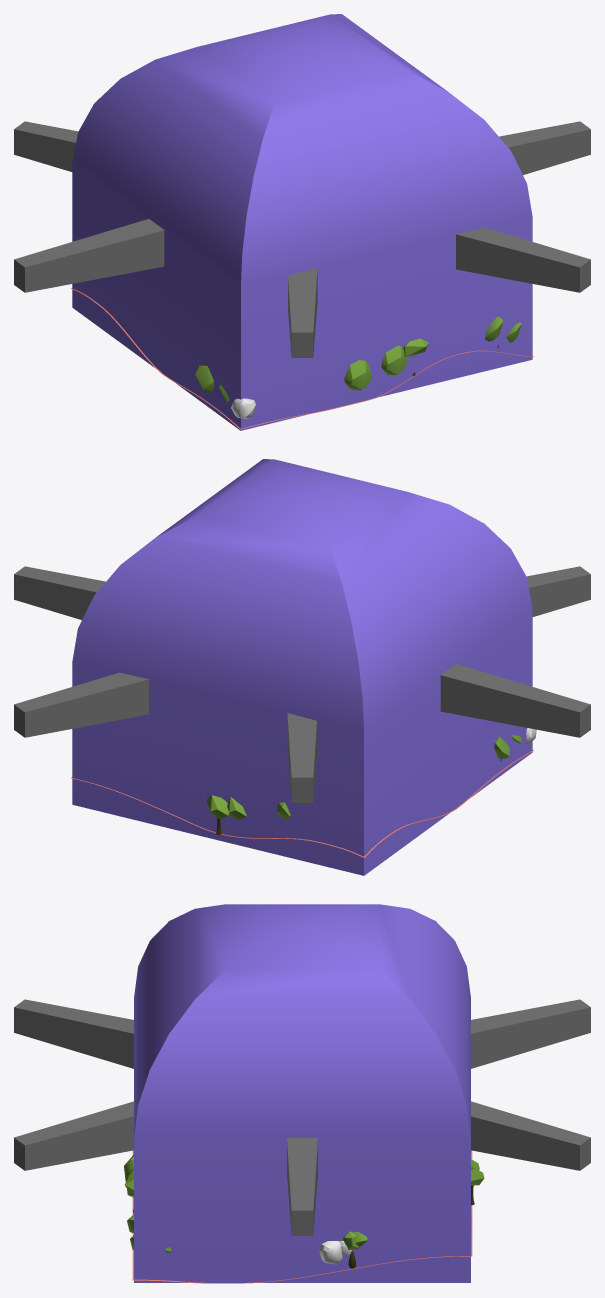
The model's file is map forêt shade smooth.fbx.
The picture shows the model from 3 angles, top to bottom: view 1: azimuth 30°, elevation 25°; view 2: azimuth 150°, elevation 25°; view 3: azimuth 270°, elevation 25°; orthographic projection.
Visible parts, largest first — view 1: plateau rendu; view 2: plateau rendu; view 3: plateau rendu.
Part boxes in pixels (x1=…): plateau rendu: x1=14, y1=14, x2=590, y2=430; plateau rendu: x1=14, y1=459, x2=590, y2=875; plateau rendu: x1=14, y1=904, x2=590, y2=1283.
Bounding box in the file's own units: 19250 × 9403 × 16991.
